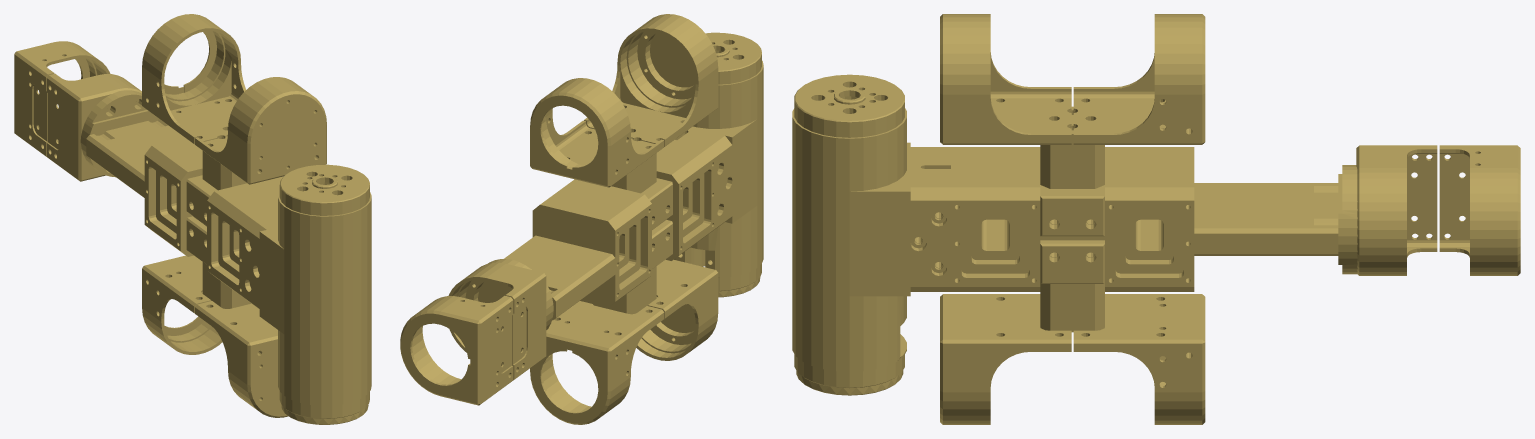
The picture shows the model from 3 angles, left to right: view 1: azimuth 30°, elevation 25°; view 2: azimuth 150°, elevation 25°; view 3: azimuth 270°, elevation 25°; orthographic projection. The views are drawn at different scales.
Visible parts, largest first — view 1: M0; view 2: M0; view 3: M0.
Part boxes in pixels (x1,y1,x2,y2): M0: (14, 14, 371, 424); M0: (400, 14, 763, 424); M0: (792, 14, 1520, 424).
Bounding box in the file's own units: 0.057 × 0.3593 × 0.2178.
